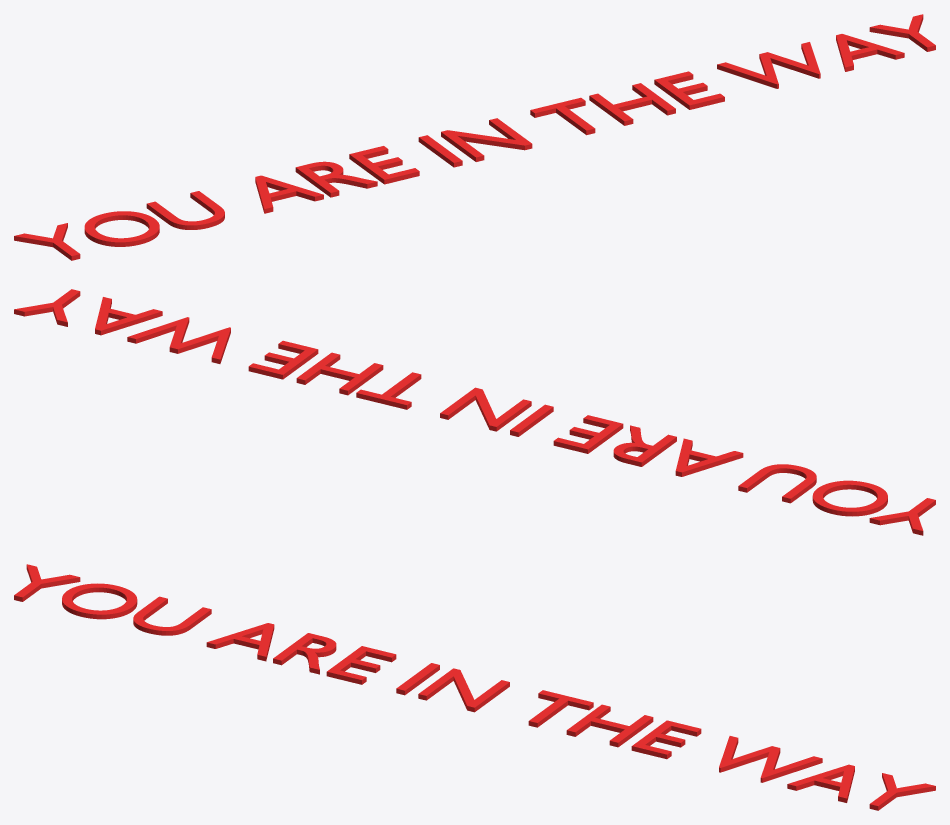
The model's file is in_the_way.fbx.
The picture shows the model from 3 angles, top to bottom: view 1: azimuth 30°, elevation 25°; view 2: azimuth 150°, elevation 25°; view 3: azimuth 330°, elevation 25°; orthographic projection.
Parts seen in each view (by area): view 1: Text.010; view 2: Text.010; view 3: Text.010.
Boxes of the visible parts, box(x1,y1,x2,y2) form: Text.010: box(14, 14, 935, 260); Text.010: box(14, 289, 935, 535); Text.010: box(14, 564, 935, 810).
Size of the model in its own units: 1019 by 5 by 70.
